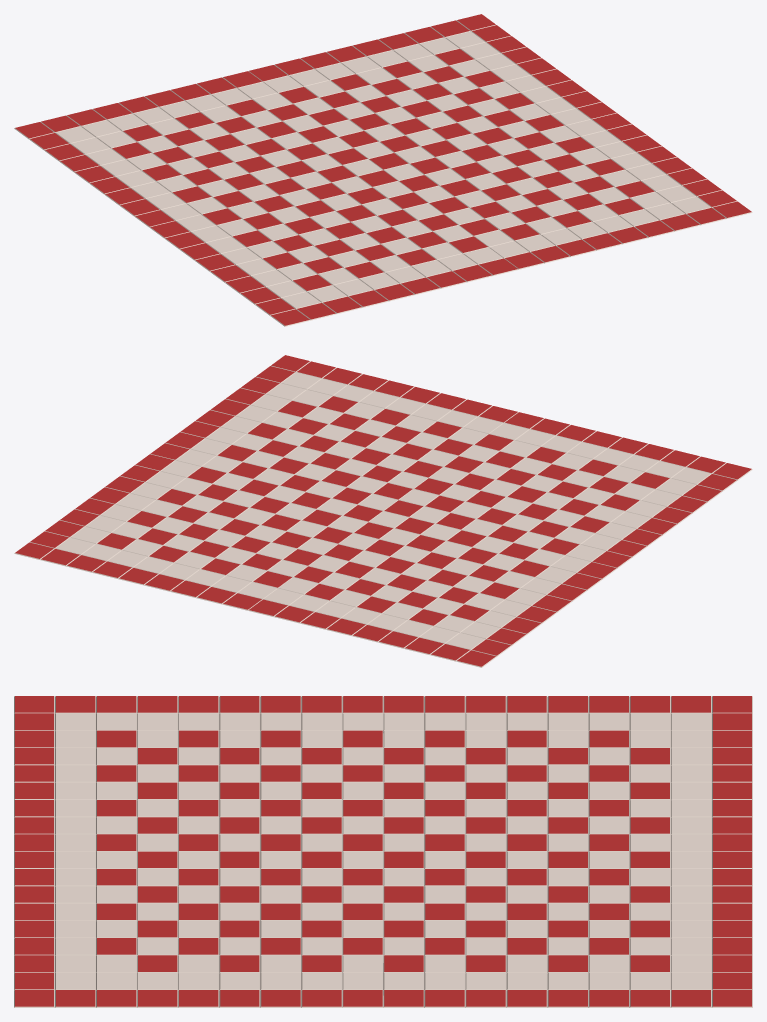
File: Tile_9.fbx
3 renders of one model, top to bottom at view 1: azimuth 30°, elevation 25°; view 2: azimuth 150°, elevation 25°; view 3: azimuth 270°, elevation 25°, orthographic. The views are drawn at different scales.
Visible parts, largest first — view 1: Tile_9; view 2: Tile_9; view 3: Tile_9.
Part boxes in pixels (left/top/right/bottom): Tile_9: left=14, top=14, right=752, bottom=326; Tile_9: left=14, top=355, right=752, bottom=667; Tile_9: left=14, top=696, right=752, bottom=1007.
Size of the model in its own units: 489 by 491 by 0.7249.
